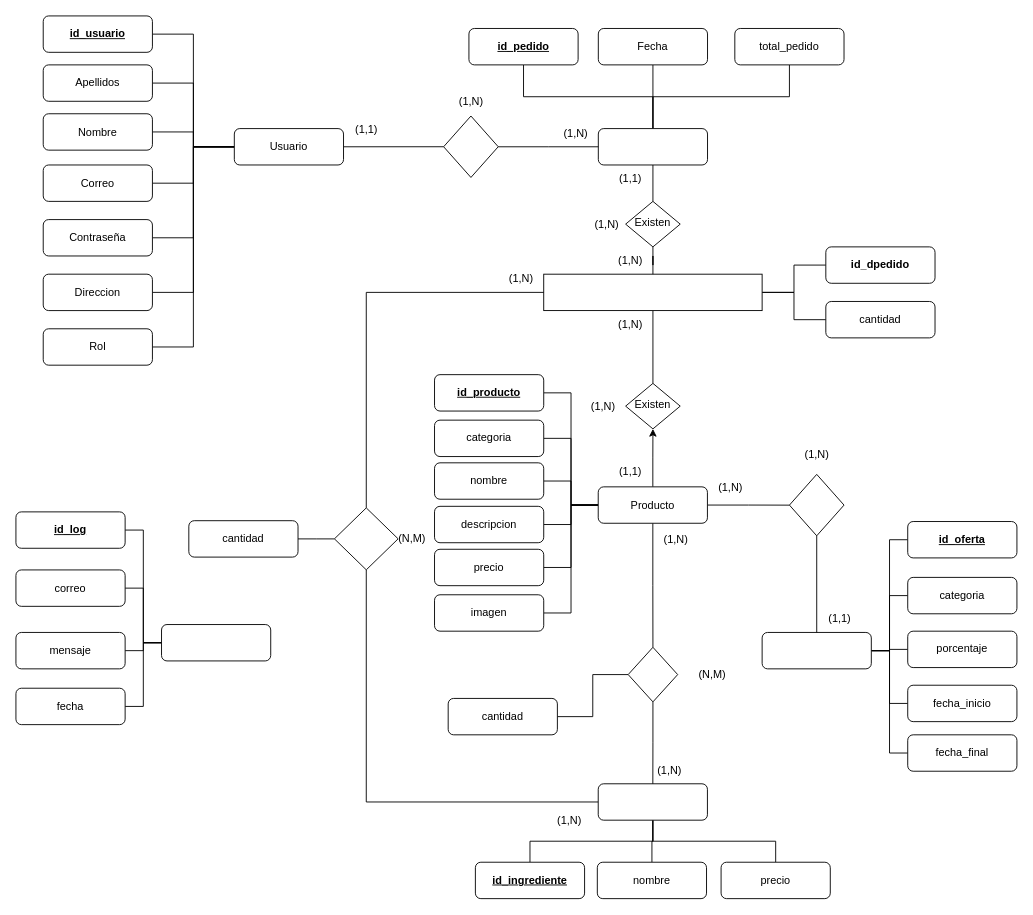
This 1033x915 diagram has some shape labels left out. Each missing label, with the centre of its shape:
"Cantidad Ingredientes" goes at (652,674).
"Compra" goes at (470,146).
"Detalle_Pedido" goes at (652,292).
"Ingrediente" goes at (652,801).
"Log" goes at (216,642).
"Modificar Ingredientes" goes at (366,538).
"Oferta" goes at (816,650).
"Pedido" goes at (652,146).
"Se le aplica" goes at (816,504).
